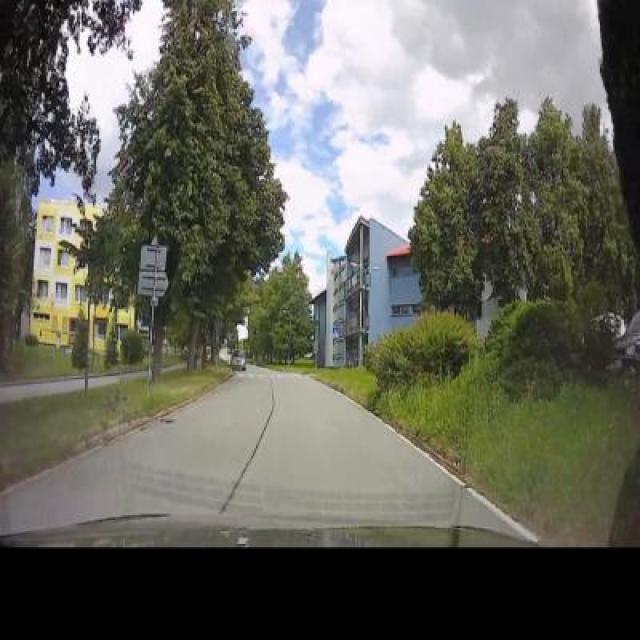clear-road: (162, 366, 410, 481)
